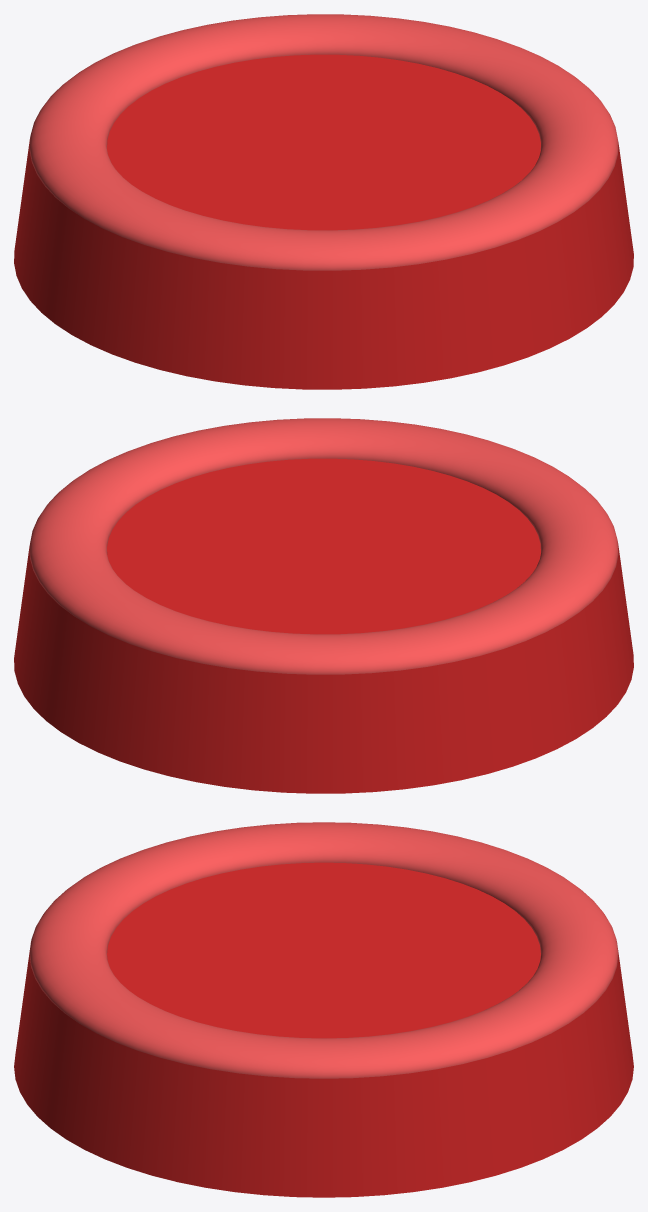
File: checkers_red.glb
3 views of the same model, one above another, from view 1: azimuth 30°, elevation 25°; view 2: azimuth 150°, elevation 25°; view 3: azimuth 270°, elevation 25° (orthographic).
Visible parts, largest first — view 1: Base, TopRidge; view 2: Base, TopRidge; view 3: Base, TopRidge.
Part boxes in pixels (x1,y1,x2,y2): Base: [14, 54, 633, 389]; TopRidge: [29, 14, 618, 270]; Base: [14, 458, 633, 793]; TopRidge: [29, 418, 618, 674]; Base: [14, 862, 633, 1197]; TopRidge: [29, 822, 618, 1078].
Bounding box in the file's own units: 0.8 × 0.185 × 0.8.
